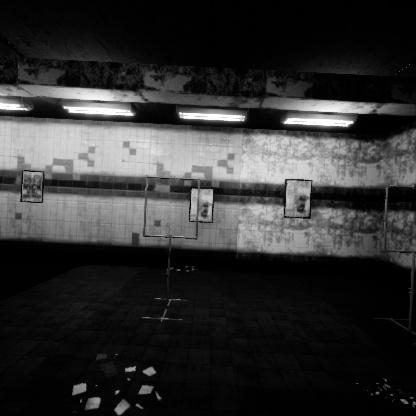gate: (143, 175, 205, 240), (383, 160, 416, 231)
